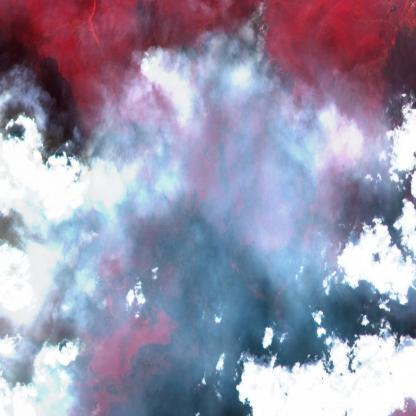fire: (0, 0, 328, 416), (334, 103, 416, 230)
